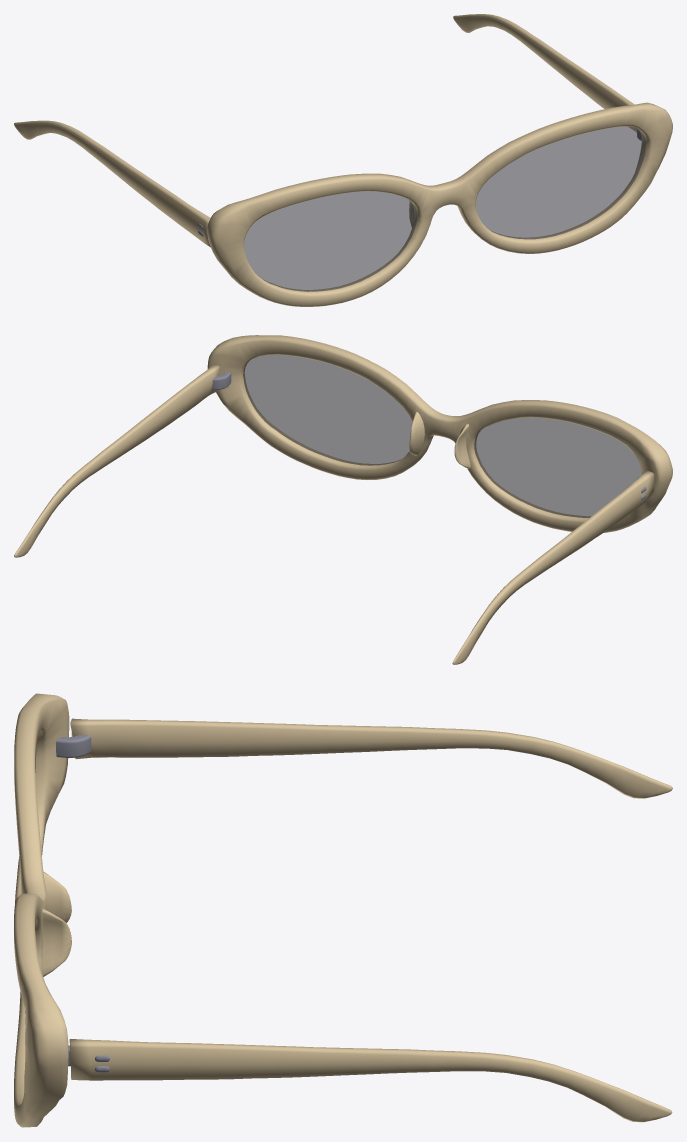
3 views of the same model, one above another, from view 1: azimuth 30°, elevation 25°; view 2: azimuth 150°, elevation 25°; view 3: azimuth 270°, elevation 25° (orthographic). The views are drawn at different scales.
Parts seen in each view (by area): view 1: model 6; view 2: model 6; view 3: model 6.
Boxes of the visible parts, x1,y1,x2,y2 form: model 6: (14,14,672,306); model 6: (14,335,672,664); model 6: (14,693,672,1127).
Size of the model in its own units: 3.28 by 0.851 by 2.69.
